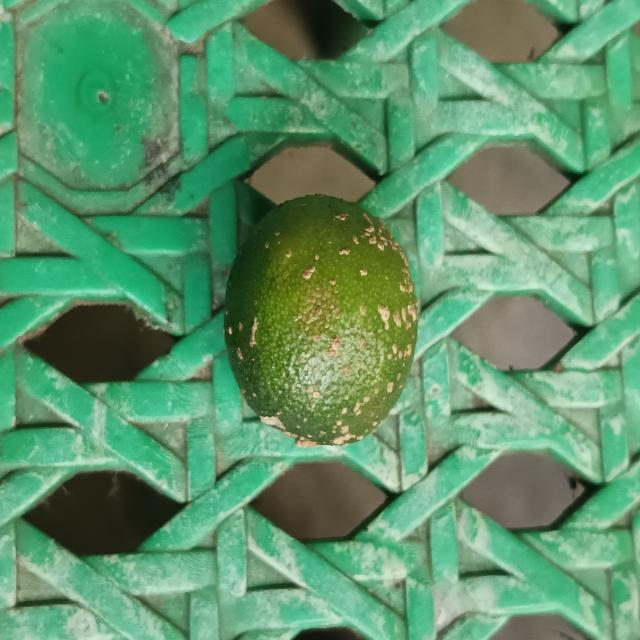scab: (216, 193, 423, 461)
